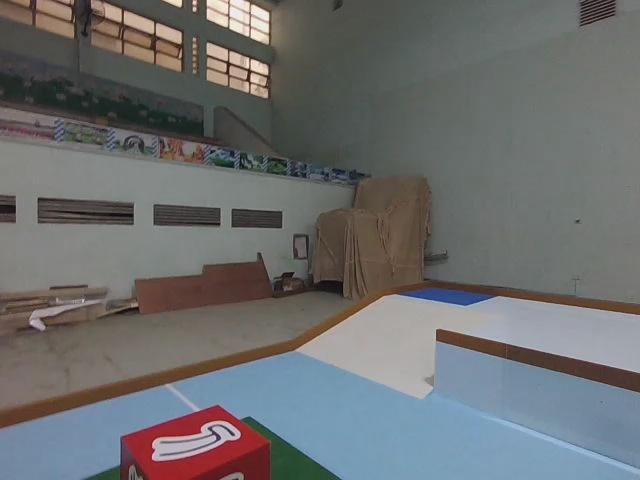R2 Fake: (122, 406, 272, 480)
